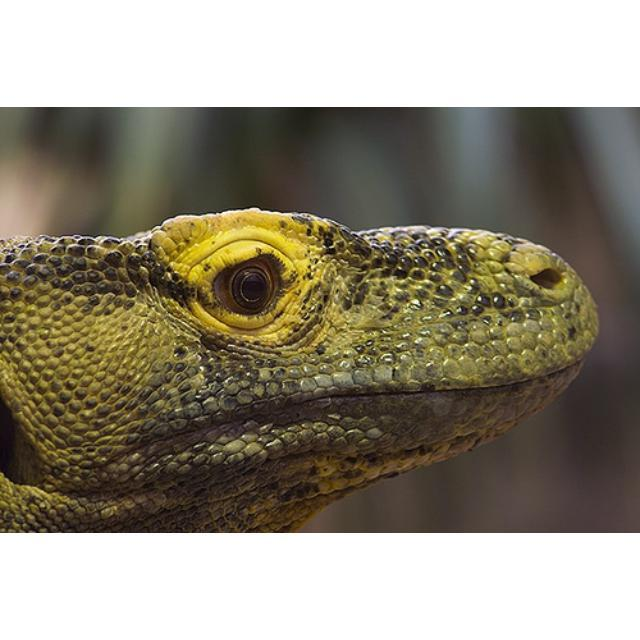KomodoDragon: (1, 206, 600, 531)
